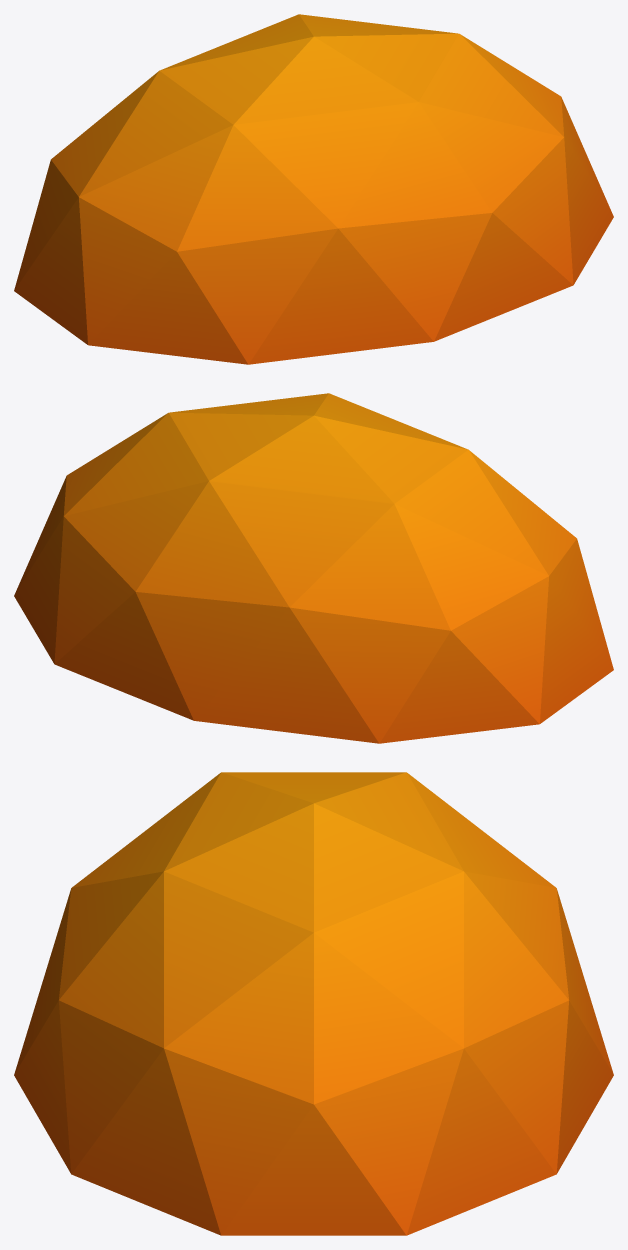
The model's file is autumn bush plant 2.fbx.
3 renders of one model, top to bottom at view 1: azimuth 30°, elevation 25°; view 2: azimuth 150°, elevation 25°; view 3: azimuth 270°, elevation 25°, orthographic. The views are drawn at different scales.
Parts seen in each view (by area): view 1: autumn bush plant 2; view 2: autumn bush plant 2; view 3: autumn bush plant 2.
Boxes of the visible parts, x1,y1,x2,y2 form: autumn bush plant 2: [14, 14, 613, 364]; autumn bush plant 2: [14, 393, 613, 743]; autumn bush plant 2: [14, 772, 613, 1235].
Bounding box in the file's own units: 253 × 100 × 200.
